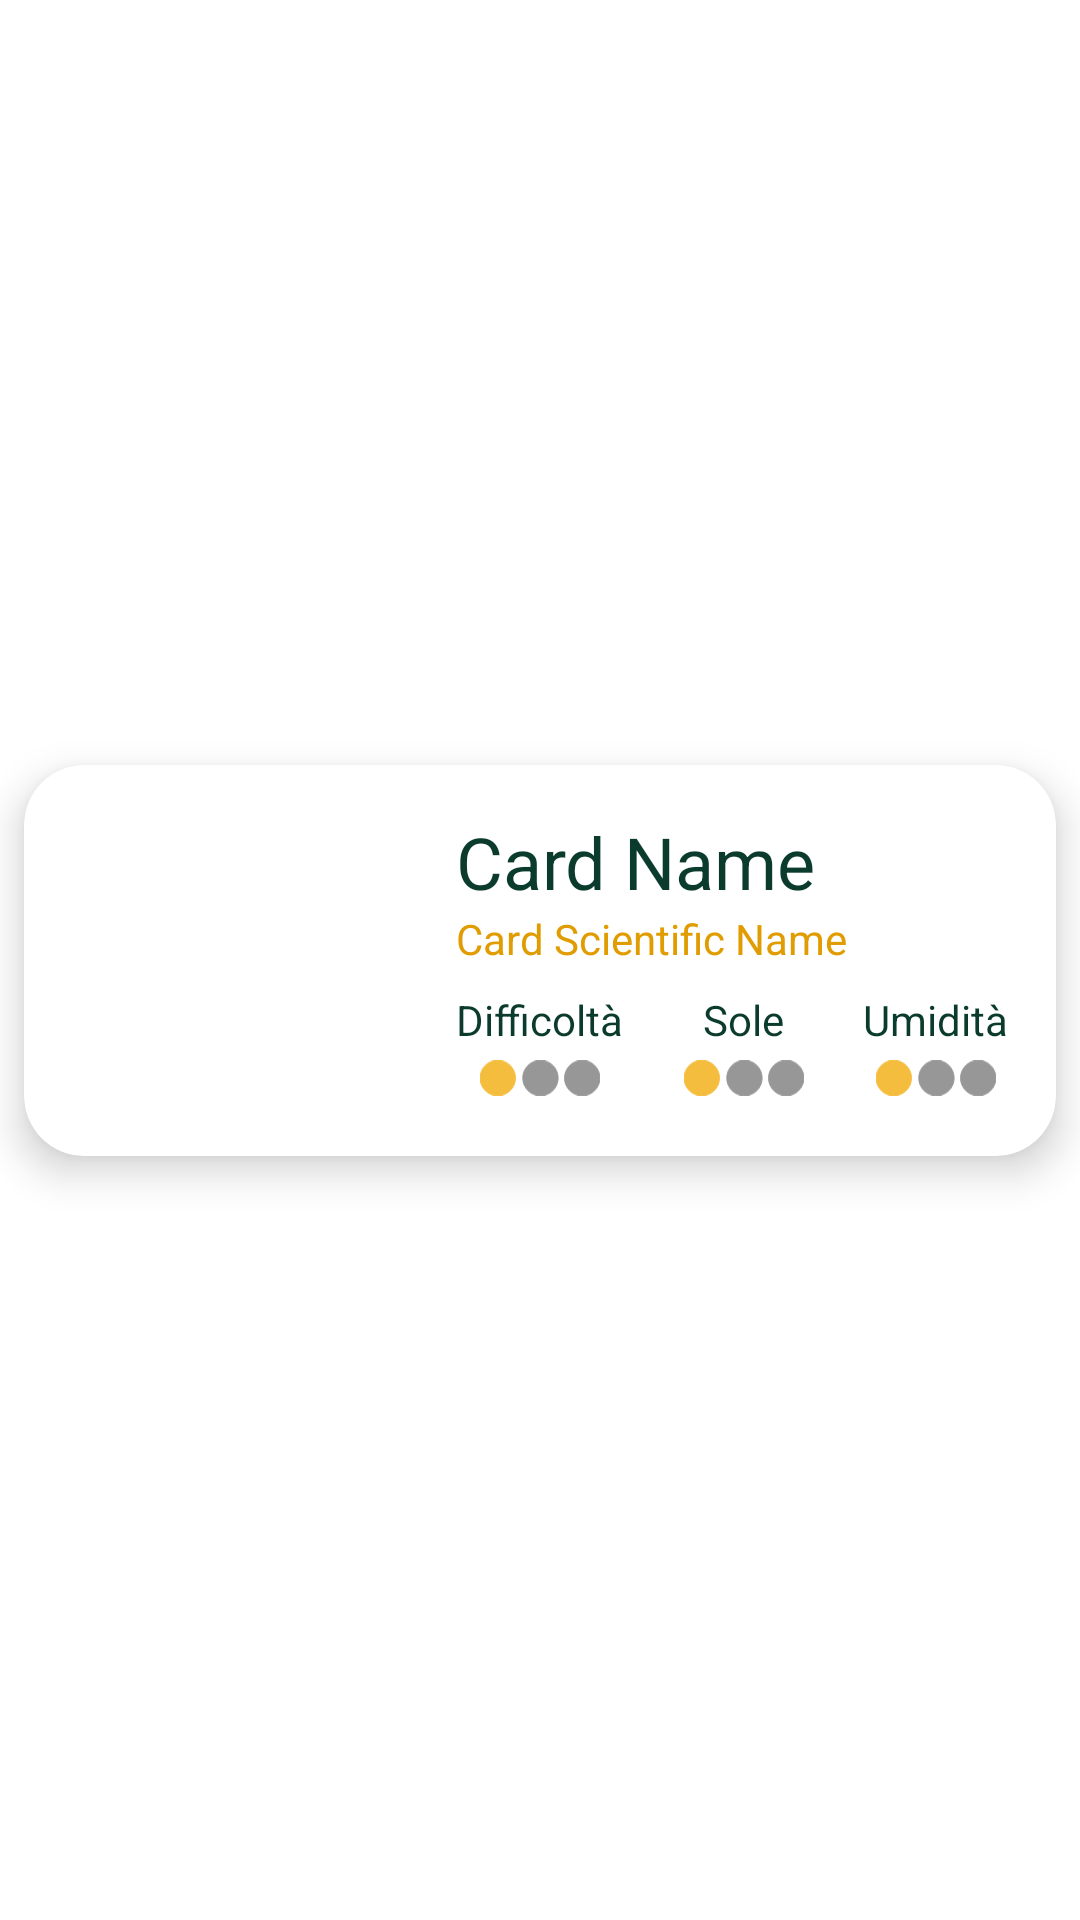

Screen size 1080px×1920px. Icon name, then its box in pixels as bbox(x1, y1, x2, y2):
level one: bbox(480, 1060, 600, 1096), bbox(684, 1060, 804, 1096), bbox(876, 1060, 996, 1096)
